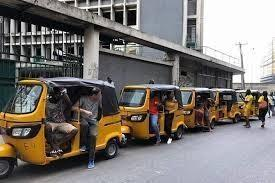keke: (1, 76, 124, 183), (119, 83, 188, 145), (178, 86, 222, 135)
